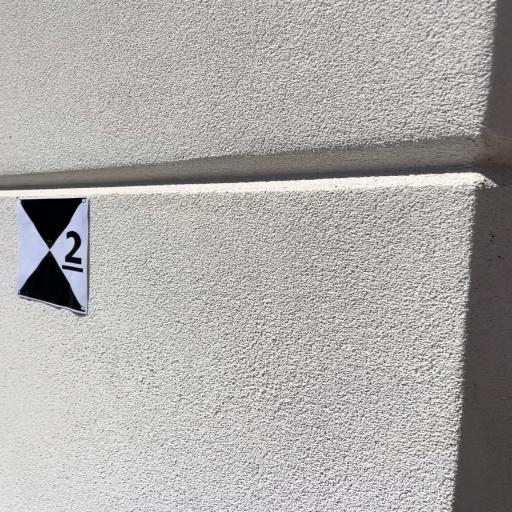target2: (13, 197, 89, 315)
